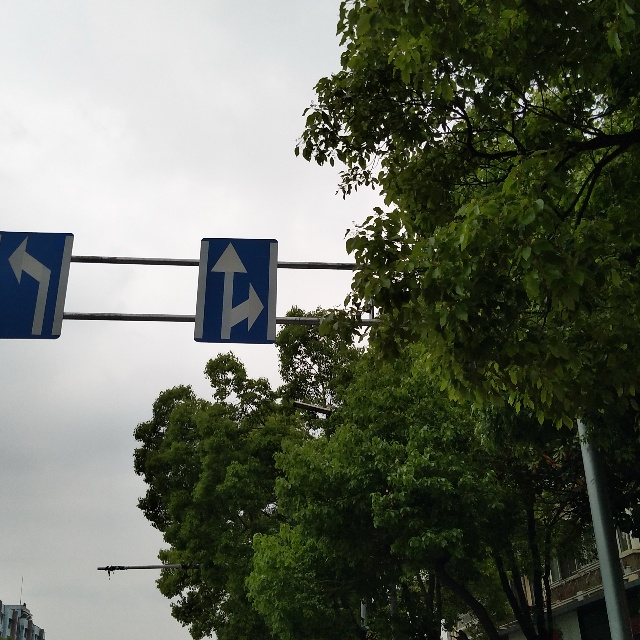left: (4, 232, 62, 338)
